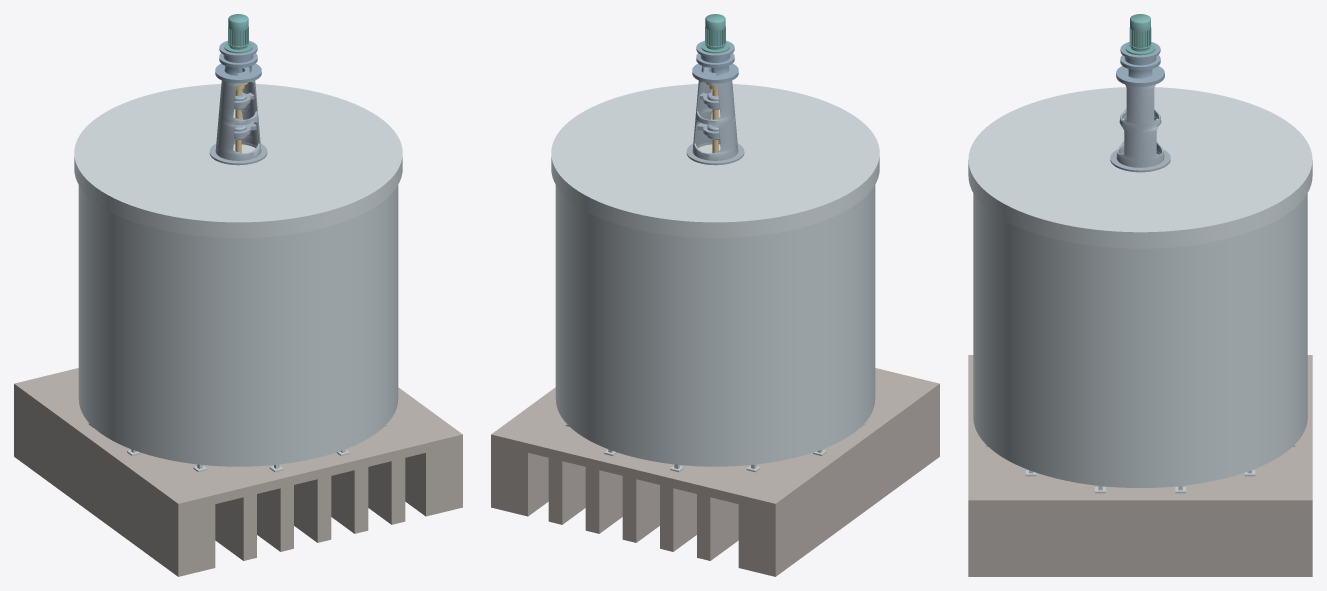
The model's file is D41B02_水解槽.glb.
3 renders of one model, left to right at view 1: azimuth 30°, elevation 25°; view 2: azimuth 150°, elevation 25°; view 3: azimuth 270°, elevation 25°, orthographic. The views are drawn at different scales.
Visible parts, largest first — view 1: Tank_shell, Tank_cover_lid, Pad_foundation_cap, Pad_foundation_strip_01, Pad_foundation_strip_07, 06_Tapered_window_frame_with_bored_seats, Pad_foundation_strip_02, Pad_foundation_strip_04, Pad_foundation_strip_05, Pad_foundation_strip_06, Pad_foundation_strip_03, 01_Motor; view 2: Tank_shell, Tank_cover_lid, Pad_foundation_cap, Pad_foundation_strip_01, Pad_foundation_strip_07, 06_Tapered_window_frame_with_bored_seats, Pad_foundation_strip_02, Pad_foundation_strip_04, Pad_foundation_strip_05, Pad_foundation_strip_06, Pad_foundation_strip_03, 01_Motor; view 3: Tank_shell, Tank_cover_lid, Pad_foundation_strip_07, Pad_foundation_cap, 06_Tapered_window_frame_with_bored_seats, 01_Motor, 02_Base_flange_top, 06_Frame_foot.
Part boxes in pixels (x1=…): Tank_shell: x1=78, y1=185, x2=398, y2=466; Tank_cover_lid: x1=74, y1=84, x2=402, y2=237; Pad_foundation_cap: x1=14, y1=368, x2=462, y2=512; Pad_foundation_strip_01: x1=14, y1=393, x2=215, y2=576; Pad_foundation_strip_07: x1=405, y1=444, x2=462, y2=516; 06_Tapered_window_frame_with_bored_seats: x1=215, y1=71, x2=261, y2=160; Pad_foundation_strip_02: x1=215, y1=494, x2=256, y2=560; Pad_foundation_strip_04: x1=294, y1=476, x2=331, y2=542; Pad_foundation_strip_05: x1=331, y1=467, x2=368, y2=533; Pad_foundation_strip_06: x1=368, y1=458, x2=405, y2=524; Pad_foundation_strip_03: x1=257, y1=485, x2=293, y2=551; 01_Motor: x1=224, y1=14, x2=252, y2=53; Tank_shell: x1=555, y1=185, x2=875, y2=466; Tank_cover_lid: x1=551, y1=84, x2=879, y2=237; Pad_foundation_cap: x1=491, y1=368, x2=939, y2=512; Pad_foundation_strip_01: x1=738, y1=393, x2=939, y2=576; Pad_foundation_strip_07: x1=491, y1=444, x2=548, y2=516; 06_Tapered_window_frame_with_bored_seats: x1=692, y1=71, x2=738, y2=160; Pad_foundation_strip_02: x1=697, y1=494, x2=738, y2=560; Pad_foundation_strip_04: x1=622, y1=476, x2=659, y2=542; Pad_foundation_strip_05: x1=585, y1=467, x2=622, y2=533; Pad_foundation_strip_06: x1=548, y1=458, x2=585, y2=524; Pad_foundation_strip_03: x1=660, y1=485, x2=696, y2=551; 01_Motor: x1=701, y1=14, x2=729, y2=53; Tank_shell: x1=973, y1=193, x2=1307, y2=487; Tank_cover_lid: x1=968, y1=87, x2=1312, y2=248; Pad_foundation_strip_07: x1=968, y1=510, x2=1312, y2=576; Pad_foundation_cap: x1=968, y1=355, x2=1312, y2=510; 06_Tapered_window_frame_with_bored_seats: x1=1116, y1=84, x2=1164, y2=167; 01_Motor: x1=1125, y1=14, x2=1155, y2=55; 02_Base_flange_top: x1=1116, y1=66, x2=1164, y2=84; 06_Frame_foot: x1=1110, y1=149, x2=1170, y2=172.
Bounding box in the file's own units: 6.07 × 9.47 × 6.07.
